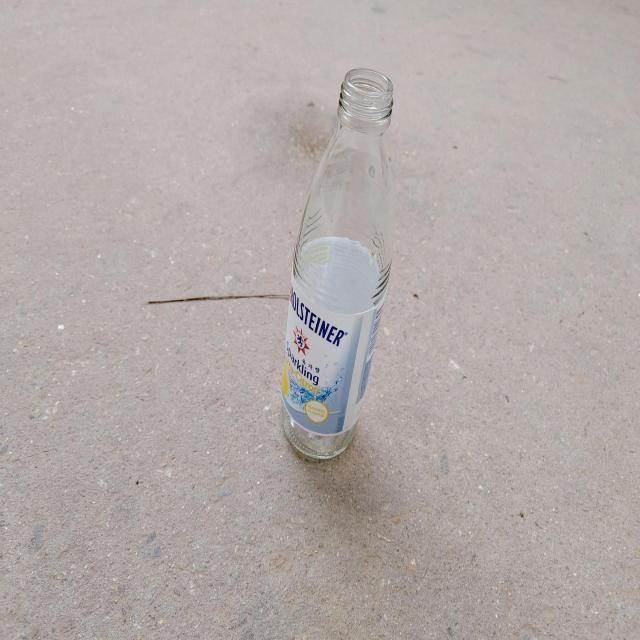glass: (281, 68, 394, 459)
